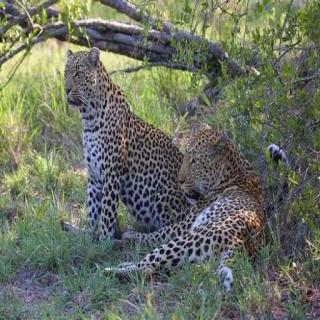Leopard: (44, 36, 189, 246), (101, 130, 278, 293)
